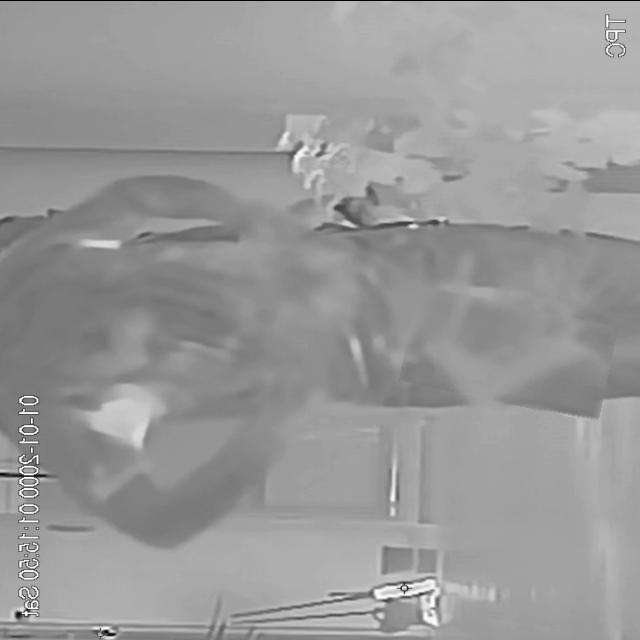Weapon: (403, 294, 615, 412)
